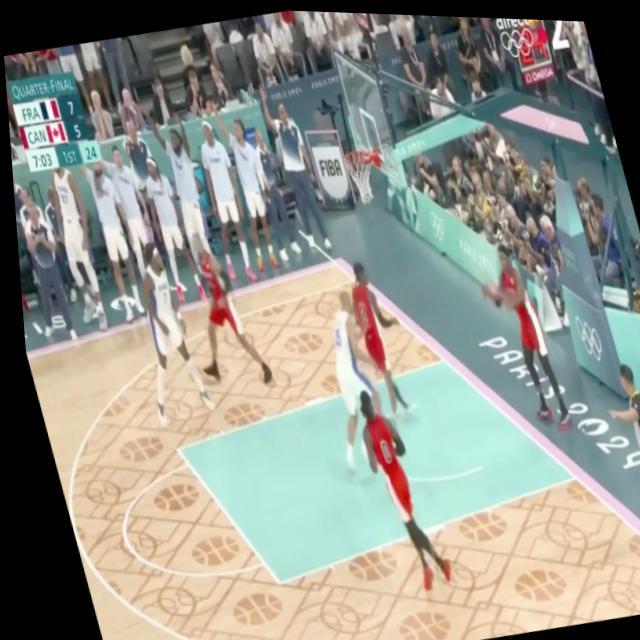ball_handler: (466, 227, 575, 442)
